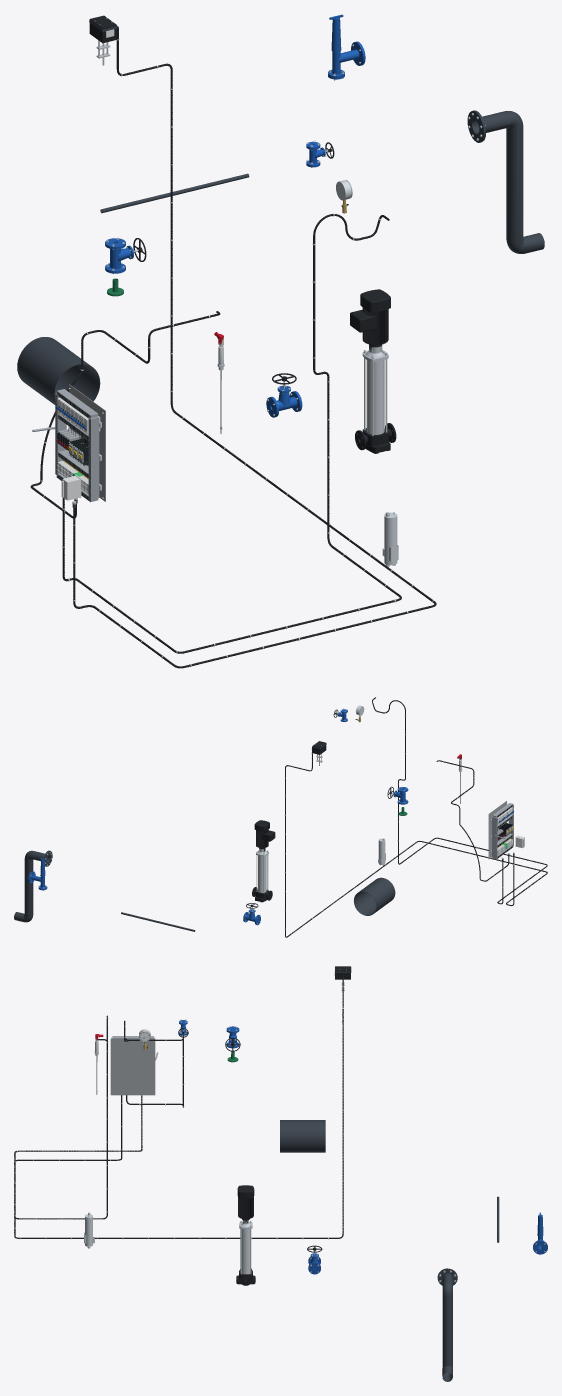
Rendered from s4000-3-BuWq3Wf_.glb.
The picture shows the model from 3 angles, top to bottom: view 1: azimuth 30°, elevation 25°; view 2: azimuth 150°, elevation 25°; view 3: azimuth 270°, elevation 25°; orthographic projection. The views are drawn at different scales.
Visible parts, largest first — view 1: cabinet_interior / cabinet_interior_0.npz, bdv_water_drain / dark, flue_spacer / dark, mod_direct_drive_cable / black, wiring_pressure_switch_2 / black, pump_1 CAD solid 15, pump_1 CAD solid 2, flash_steam_common / blue, wiring_low_level_2 / black, pump_1 CAD solid 0, sc9 / sc9_0.npz; view 2: cabinet_interior / cabinet_interior_0.npz, flue_spacer / dark, bdv_water_drain / dark, mod_direct_drive_cable / black, wiring_pressure_switch_2 / black, pump_1 CAD solid 15, wiring_low_level_2 / black, pump_1 CAD solid 2; view 3: cabinet_interior / cabinet_interior_0.npz, flue_spacer / dark, mod_direct_drive_cable / black, bdv_water_drain / dark, wiring_pressure_switch_2 / black, pump_1 CAD solid 15, pump_1 CAD solid 2.
Boxes of the visible parts, x1,y1,x2,y2 form: cabinet_interior / cabinet_interior_0.npz: (32, 384, 105, 502); bdv_water_drain / dark: (467, 110, 544, 253); flue_spacer / dark: (17, 337, 100, 404); mod_direct_drive_cable / black: (73, 26, 436, 668); wiring_pressure_switch_2 / black: (62, 214, 401, 653); pump_1 CAD solid 15: (350, 289, 390, 345); pump_1 CAD solid 2: (366, 360, 384, 434); flash_steam_common / blue: (328, 14, 365, 79); wiring_low_level_2 / black: (30, 311, 220, 518); pump_1 CAD solid 0: (355, 423, 396, 453); sc9 / sc9_0.npz: (382, 512, 398, 567); cabinet_interior / cabinet_interior_0.npz: (488, 801, 513, 859); flue_spacer / dark: (354, 877, 395, 915); bdv_water_drain / dark: (14, 850, 52, 922); mod_direct_drive_cable / black: (285, 746, 547, 937); wiring_pressure_switch_2 / black: (372, 697, 547, 904); pump_1 CAD solid 15: (254, 820, 275, 848); wiring_low_level_2 / black: (436, 760, 509, 881); pump_1 CAD solid 2: (258, 855, 266, 892); cabinet_interior / cabinet_interior_0.npz: (110, 1036, 158, 1095); flue_spacer / dark: (280, 1120, 325, 1152); mod_direct_drive_cable / black: (14, 976, 343, 1238); bdv_water_drain / dark: (437, 1268, 457, 1381); wiring_pressure_switch_2 / black: (14, 1015, 142, 1219); pump_1 CAD solid 15: (237, 1185, 254, 1219); pump_1 CAD solid 2: (240, 1229, 250, 1274).
Bounding box in the file's own units: 5.8 × 3.09 × 5.82.
